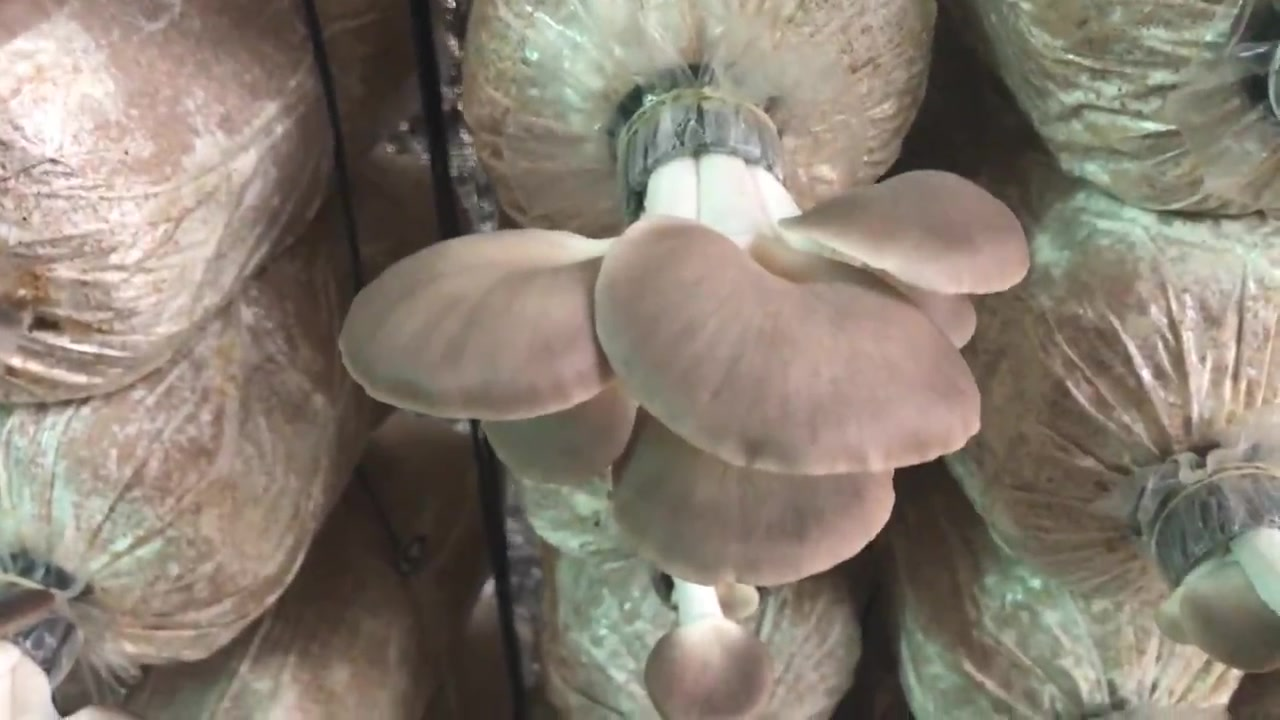nam: (341, 97, 1026, 586), (1156, 470, 1280, 672), (646, 567, 771, 719)
